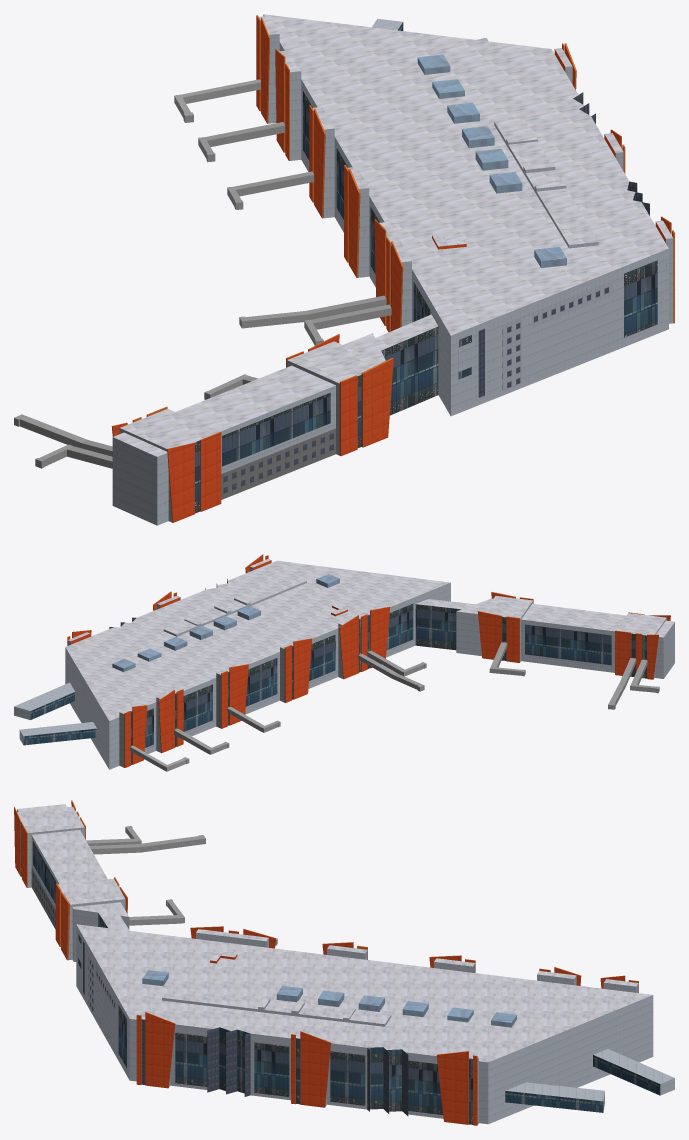
File: Terminal_E.fbx
3 views of the same model, one above another, from view 1: azimuth 30°, elevation 25°; view 2: azimuth 150°, elevation 25°; view 3: azimuth 270°, elevation 25° (orthographic). The views are drawn at different scales.
Visible parts, largest first — view 1: Model; view 2: Model; view 3: Model.
Part boxes in pixels (bbox=[...]): Model: bbox=[14, 14, 674, 525]; Model: bbox=[14, 554, 674, 771]; Model: bbox=[14, 800, 674, 1125].
Bounding box in the file's own units: 288 × 34.71 × 283.
19 materials, 19 textured.
